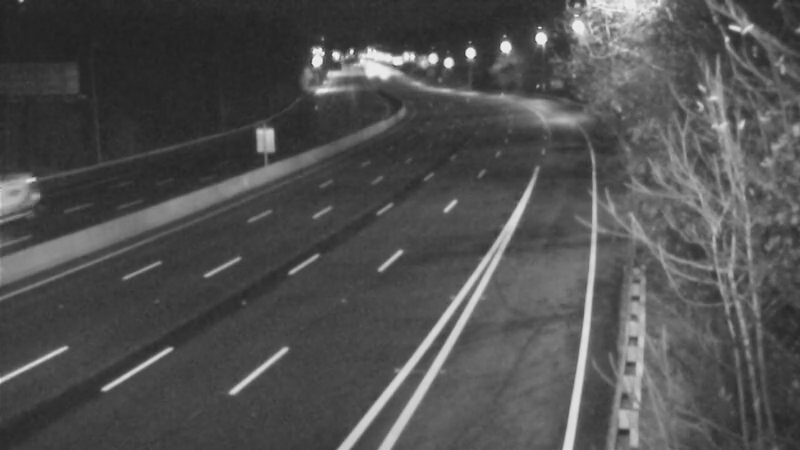vehicle: (1, 167, 66, 247)
